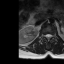CCS_normal: (47, 32, 50, 42)
LFS_stenosis: (52, 32, 54, 38)
LLS_normal: (49, 32, 52, 40)
RFS_normal: (43, 32, 45, 38)
RLS_normal: (45, 32, 47, 39)
